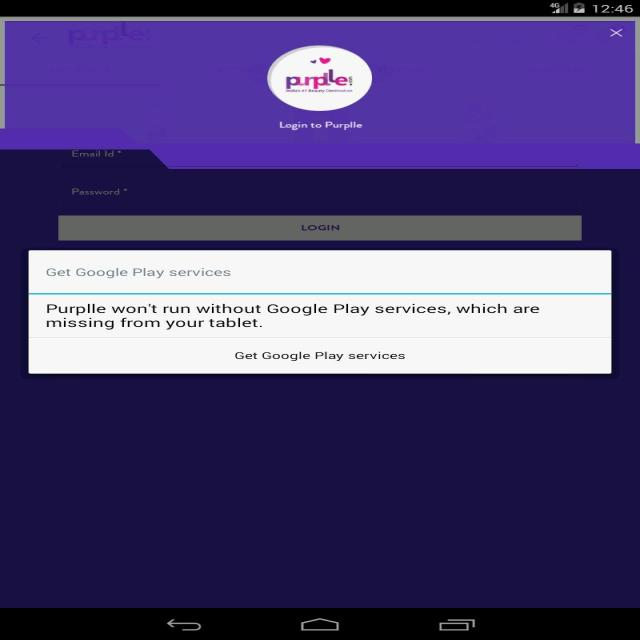button: (30, 334, 612, 373), (58, 214, 586, 240), (601, 24, 633, 40)
heading: (44, 264, 232, 280)
image: (260, 44, 376, 112)
text: (37, 302, 577, 331)
